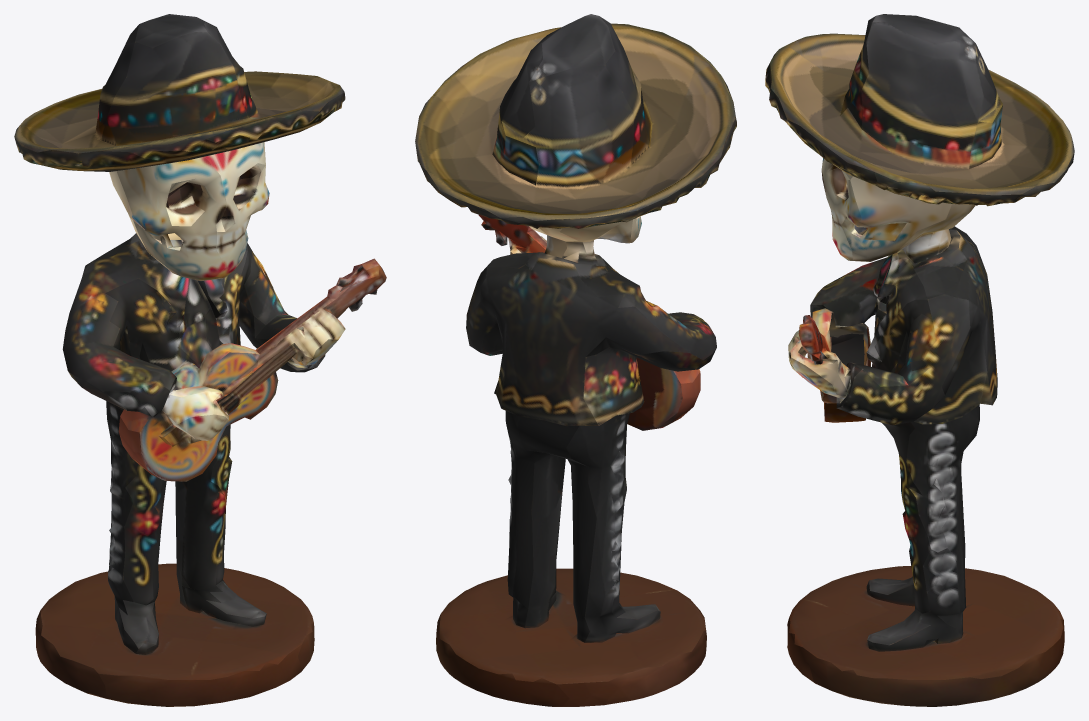
The model's file is mariachi.glb.
3 views of the same model, side by side, from view 1: azimuth 30°, elevation 25°; view 2: azimuth 150°, elevation 25°; view 3: azimuth 270°, elevation 25° (orthographic). The views are drawn at different scales.
Visible parts, largest first — view 1: geometry_0; view 2: geometry_0; view 3: geometry_0.
Boxes of the visible parts, bbox=[...] form: geometry_0: bbox=[14, 14, 386, 706]; geometry_0: bbox=[415, 14, 736, 706]; geometry_0: bbox=[765, 14, 1074, 706].
Size of the model in its own units: 0.1226 by 0.25 by 0.1109.
Materials: 1 (1 with a texture image).
